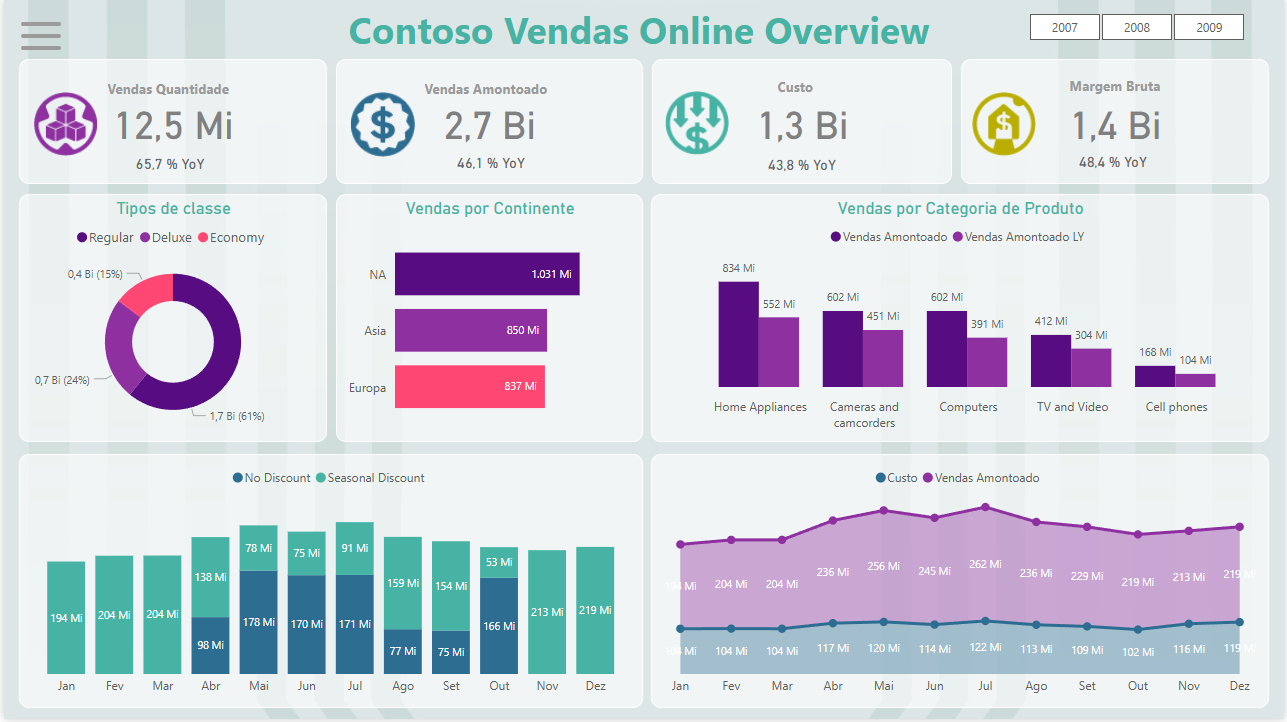

What the dashboard file says about the page in this screenshot:
{"tool":"powerbi","page":{"name":"Vendas Online Overview","canvas":[1280,720],"ordinal":0},"visuals":[{"type":"slicer","fields":{"Values":["DimCalendario.Ano"]},"box":[1000,8,265,40],"z":0},{"type":"card","fields":{"Values":["#Medidas.Vendas Amontoado"]},"box":[332.2,60.1,307,124.8],"z":1000},{"type":"card","fields":{"Values":["#Medidas.Margem Bruta"]},"box":[957,60.1,307.9,124.8],"z":2000},{"type":"card","fields":{"Values":["#Medidas.Custo"]},"box":[648.2,60.1,299.9,124.8],"z":3000},{"type":"card","fields":{"Values":["#Medidas.Vendas Quantidade"]},"box":[15.3,60.1,307.9,124.8],"z":4000},{"type":"donutChart","title":"Tipos de classe","fields":{"Y":["#Medidas.Vendas Amontoado"],"Category":["DimProduct.ClassName"]},"box":[15.3,194.8,307.9,248.7],"z":5000},{"type":"clusteredColumnChart","title":"Vendas por Categoria de Produto","fields":{"Category":["DimProductCategory.ProductCategoryName"],"Y":["#Medidas.Vendas Amontoado","#Medidas.Vendas Amontoado LY"]},"box":[647.3,194.8,617.7,248.7],"z":6000},{"type":"columnChart","title":"Vendas por Mês e Tipo de Promoçao","fields":{"Series":["DimPromotion.PromotionType"],"Y":["#Medidas.Vendas Amontoado"],"Category":["DimCalendario.Mes Abrev"]},"box":[15.3,455.2,623.9,254.1],"z":7000},{"type":"stackedAreaChart","title":"Custo e Vendas por Mês","fields":{"Y":["#Medidas.Custo","#Medidas.Vendas Amontoado"],"Category":["DimCalendario.Mes Abrev"]},"box":[647.3,455.2,617.7,254.1],"z":8000},{"type":"barChart","title":"Vendas por Continente","fields":{"Y":["#Medidas.Vendas Amontoado"],"Category":["DimGeography.ContinentName"]},"box":[332.2,194.8,307,248.7],"z":9000},{"type":"textbox","box":[340,0,600,60],"z":10000},{"type":"image","box":[341.8,86.8,74,76],"z":14000},{"type":"textbox","box":[415.8,75.8,142,35],"z":15000},{"type":"image","box":[656,86.3,74,76],"z":16000},{"type":"textbox","box":[1060.7,73.1,133,35],"z":17000},{"type":"image","box":[963.3,87.1,73.6,76.3],"z":18000},{"type":"image","box":[25.1,88,73.6,73.6],"z":19000},{"type":"textbox","box":[769,74,133,35],"z":20000},{"type":"textbox","box":[99.1,75.8,151,35],"z":21000},{"type":"card","fields":{"Values":["#Medidas.Custo Delta % txt"]},"box":[747,151,102,23],"z":22000},{"type":"card","fields":{"Values":["#Medidas.Margem Bruta Delta % txt"]},"box":[1065.7,149.1,86,24],"z":23000},{"type":"card","fields":{"Values":["#Medidas.Vendas Delta % txt"]},"box":[432.8,149.8,108,24],"z":24000},{"type":"card","fields":{"Values":["#Medidas.Vendas Quantidade Delta % txt"]},"box":[123.1,151.8,86,26],"z":25000},{"type":"image","box":[0,0,75.4,73.6],"z":25250},{"type":"actionButton","box":[0,6.3,75.4,60.1],"z":25500}]}

Visuals, with their boxes in screenshot pixels (x1, y1, x2, y2), scaled from the page's 1280x720 canvas onto the 1287x722 screenshot:
slicer - DimCalendario.Ano: 1005 8 1272 48
card - #Medidas.Vendas Amontoado: 334 60 643 185
card - #Medidas.Margem Bruta: 962 60 1272 185
card - #Medidas.Custo: 652 60 953 185
card - #Medidas.Vendas Quantidade: 15 60 325 185
"Tipos de classe" donutChart: 15 195 325 445
"Vendas por Categoria de Produto" clusteredColumnChart: 651 195 1272 445
"Vendas por Mês e Tipo de Promoçao" columnChart: 15 456 643 711
"Custo e Vendas por Mês" stackedAreaChart: 651 456 1272 711
"Vendas por Continente" barChart: 334 195 643 445
textbox: 342 0 945 60
image: 344 87 418 163
textbox: 418 76 561 111
image: 660 87 734 163
textbox: 1067 73 1200 108
image: 969 87 1043 164
image: 25 88 99 162
textbox: 773 74 907 109
textbox: 100 76 251 111
card - #Medidas.Custo Delta % txt: 751 151 854 174
card - #Medidas.Margem Bruta Delta % txt: 1072 150 1158 174
card - #Medidas.Vendas Delta % txt: 435 150 544 174
card - #Medidas.Vendas Quantidade Delta % txt: 124 152 210 178
image: 0 0 76 74
actionButton: 0 6 76 67
